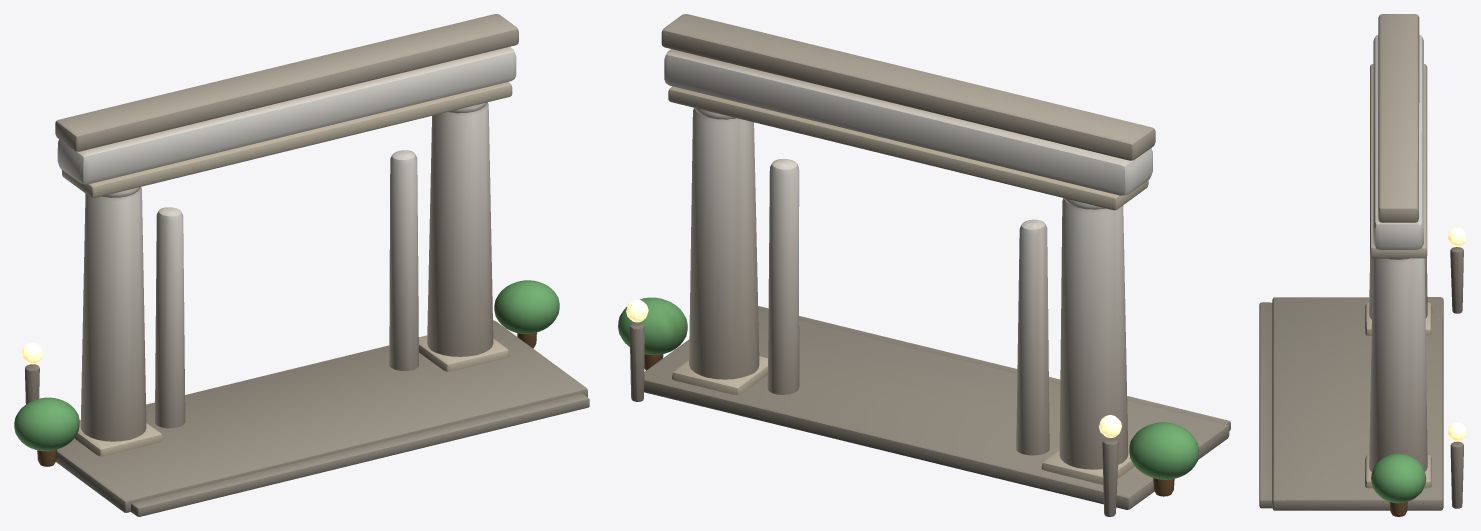
The picture shows the model from 3 angles, left to right: view 1: azimuth 30°, elevation 25°; view 2: azimuth 150°, elevation 25°; view 3: azimuth 270°, elevation 25°; orthographic projection. The views are drawn at different scales.
Parts seen in each view (by area): view 1: gate_e8eed53e; view 2: gate_e8eed53e; view 3: gate_e8eed53e.
Boxes of the visible parts, <box> form: gate_e8eed53e: <box>14,14,589,516</box>; gate_e8eed53e: <box>618,14,1230,516</box>; gate_e8eed53e: <box>1259,14,1466,516</box>.
Size of the model in its own units: 6.87 by 4.08 by 2.54.
